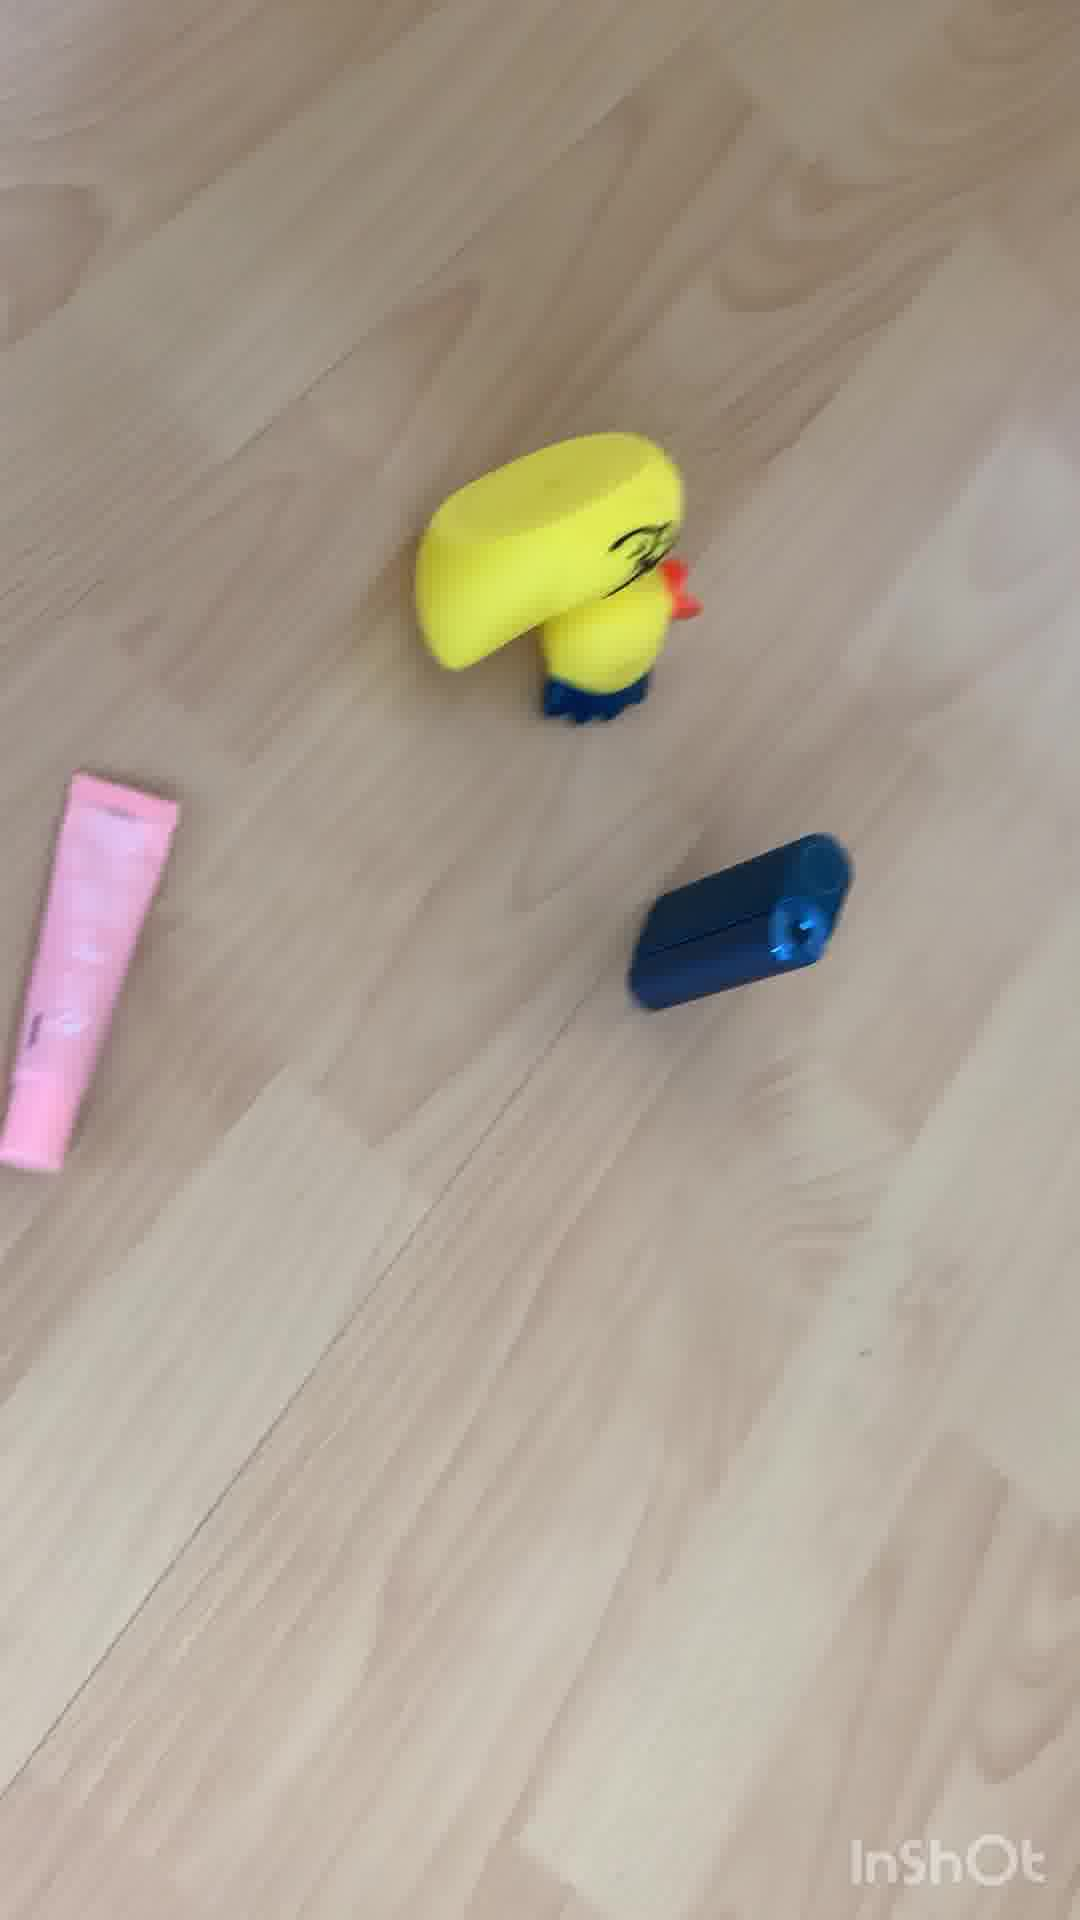duck: (418, 426, 698, 717)
glo: (626, 823, 864, 1011)
lip balm: (1, 764, 182, 1182)
